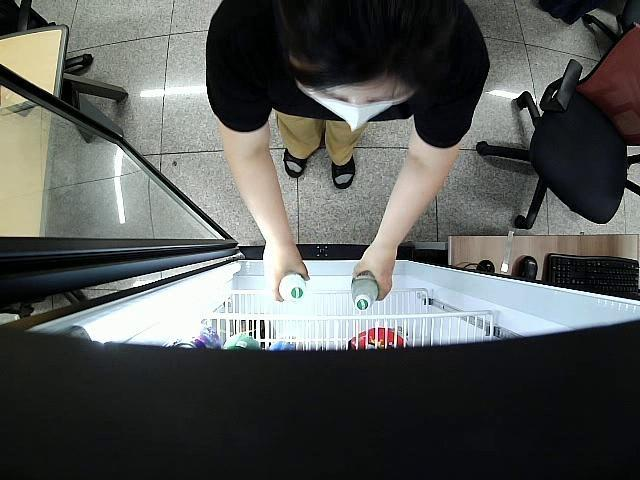18_trevi: (350, 270, 380, 310), (278, 270, 309, 302)
